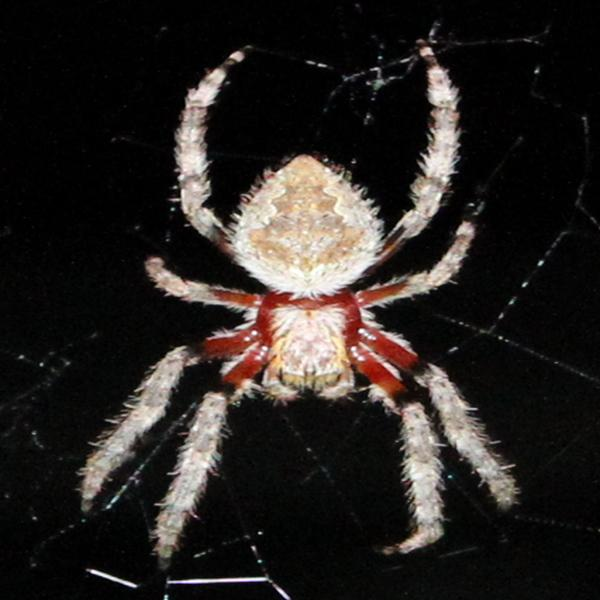Garden Orb Weaver Spider: (98, 49, 514, 548)
